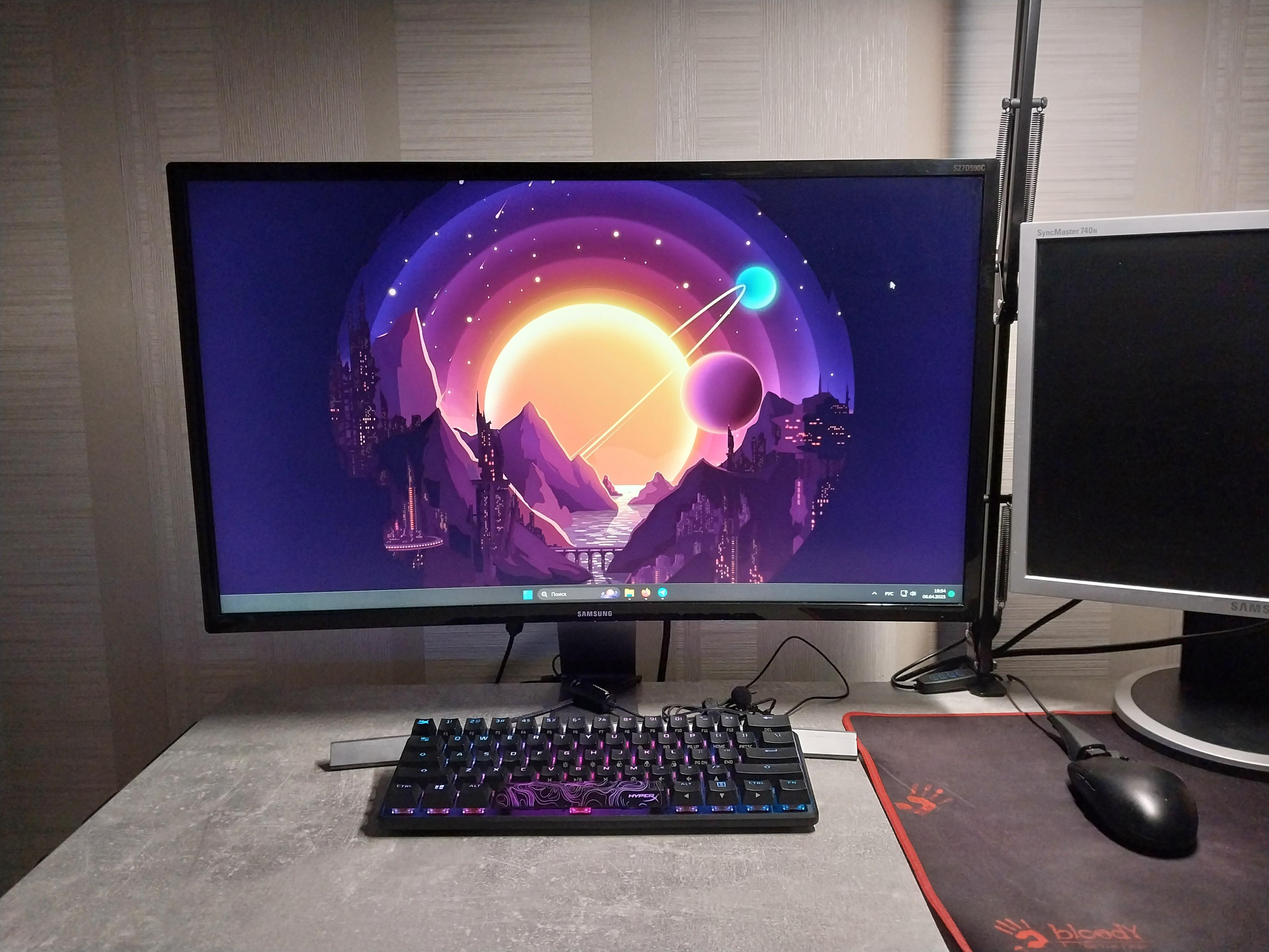monitor: (160, 149, 995, 647), (1017, 208, 1269, 625)
